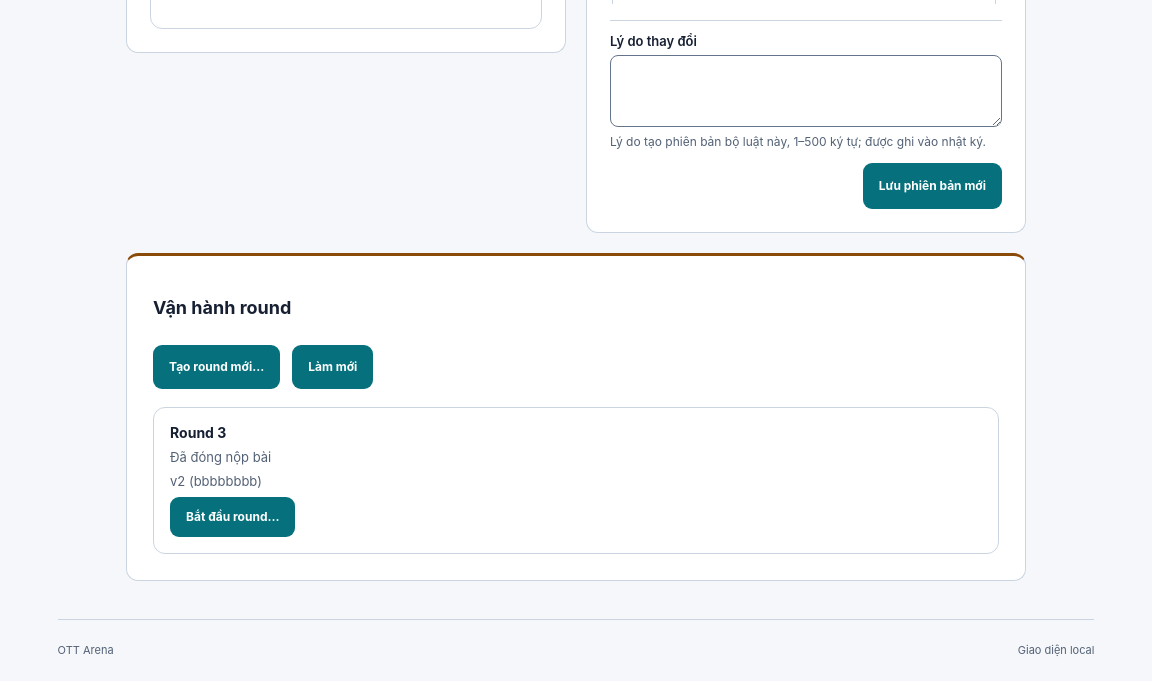
Test: RoundAdmin operations console › refetches and reconciles buttons after a 409 transition conflict
(page scrolled)
Expected: the heading "Round 3" is shown, [170,424,226,440]
Click the button "Bắt đầu round…" at {"x": 233, "y": 516}, box [170,496,296,536]
(page scrolled)
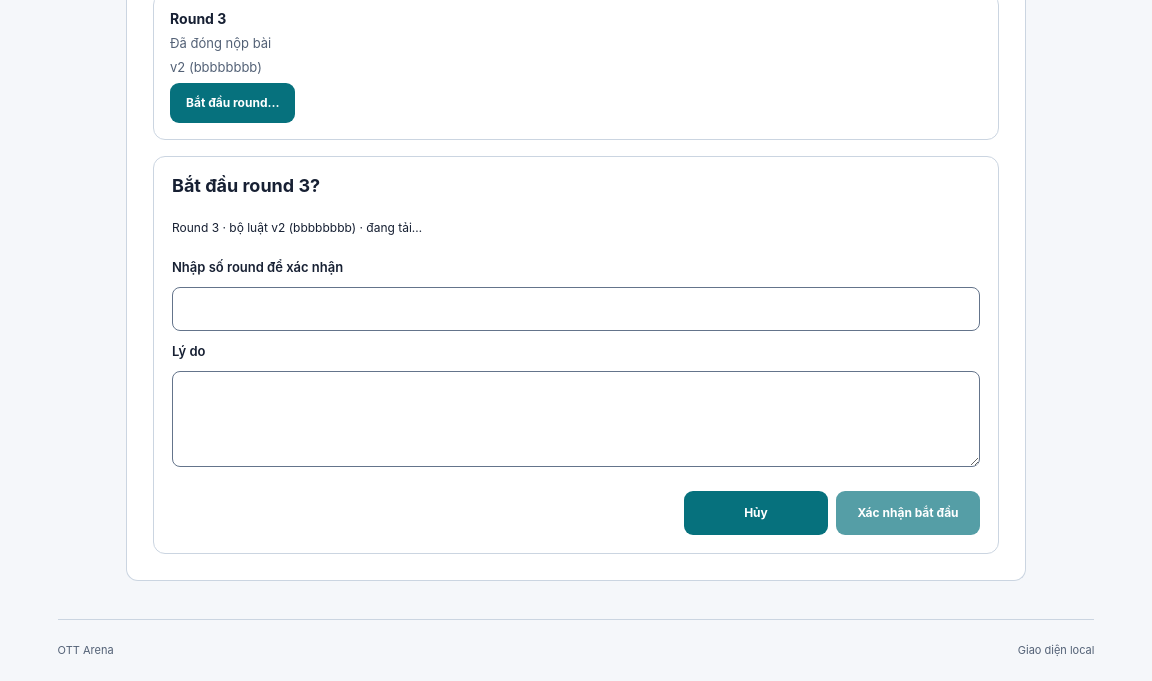
Type "Chạy round 3" into the text box labelled "Lý do" at {"x": 576, "y": 418}, box [172,370,980,466]
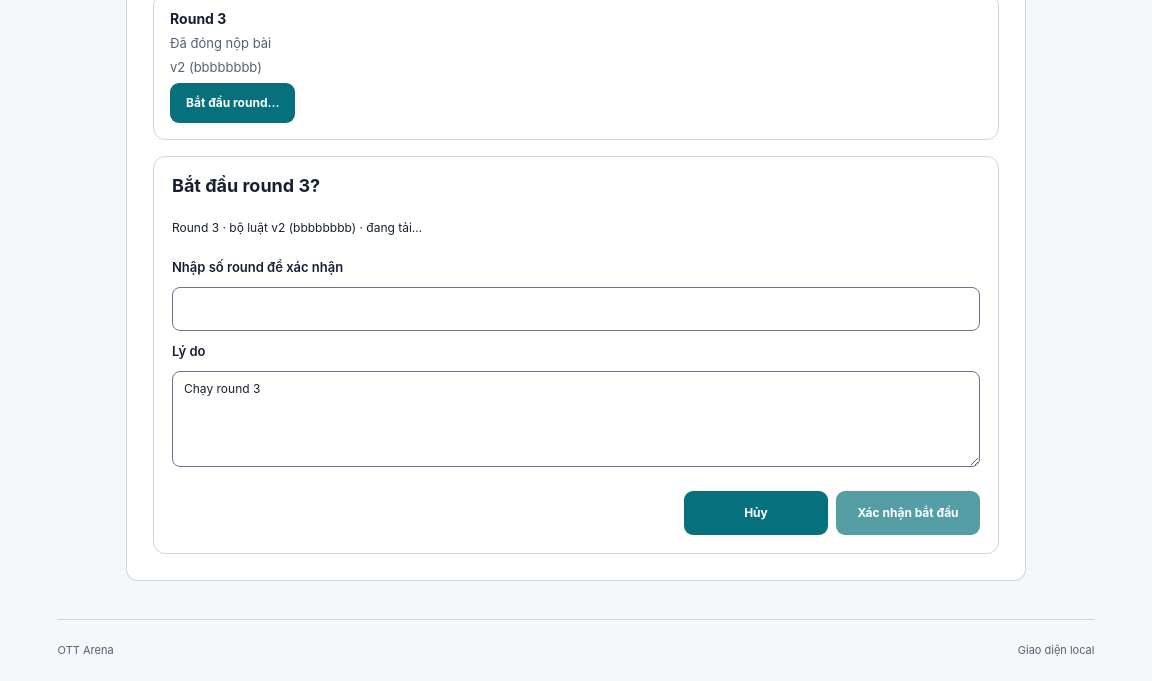
Type "3" into the field labelled "Nhập số round để xác nhận" at {"x": 576, "y": 308}, box [172,286,980,330]
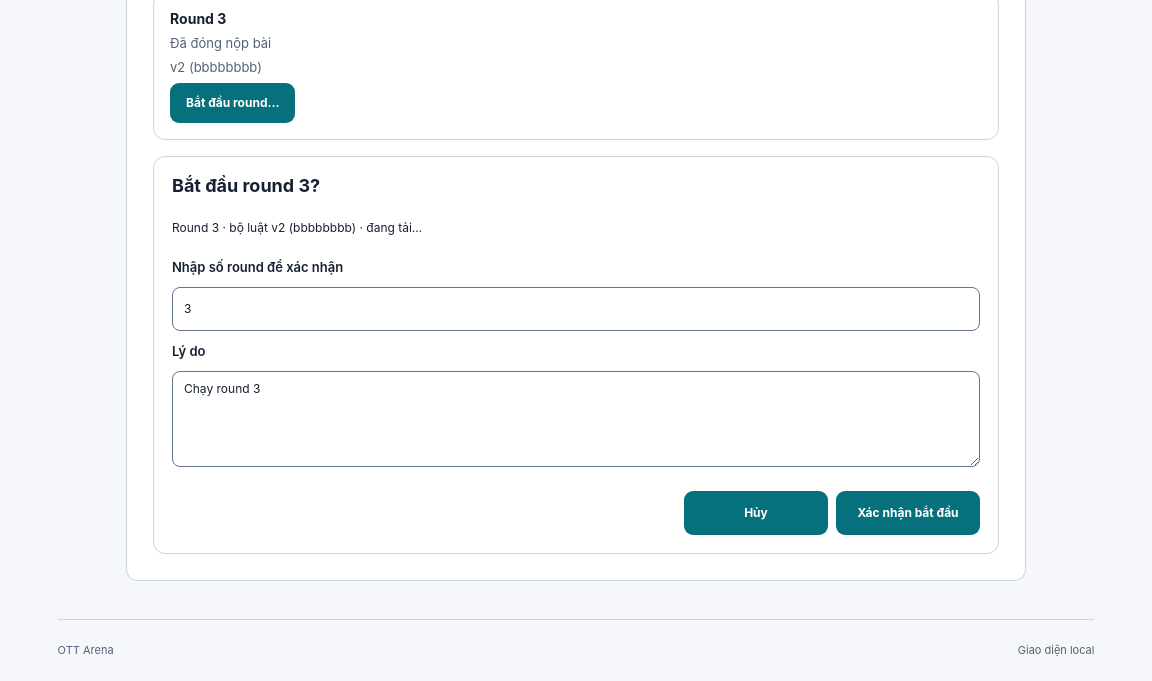
Click the button "Xác nhận bắt đầu" at {"x": 908, "y": 512}, box [836,490,980,534]
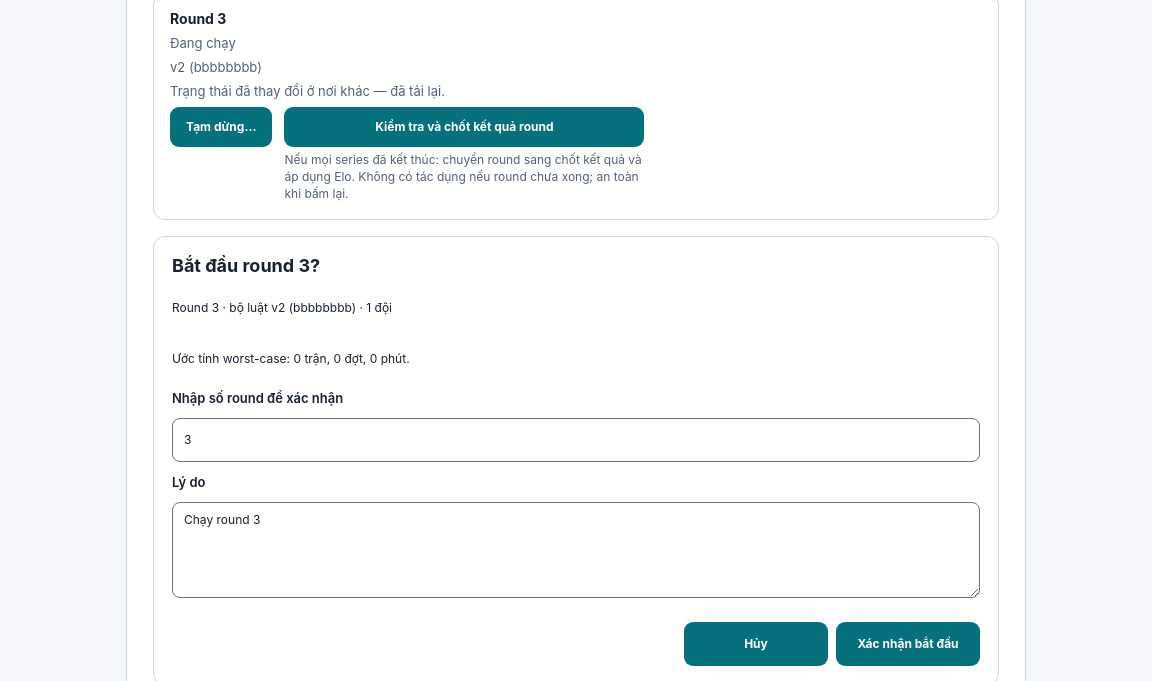
Expected: the message shows "Trạng thái đã thay đổi ở nơi khác", [170,82,445,98]
Expected: the button "Tạm dừng…" is shown, [170,106,272,146]
